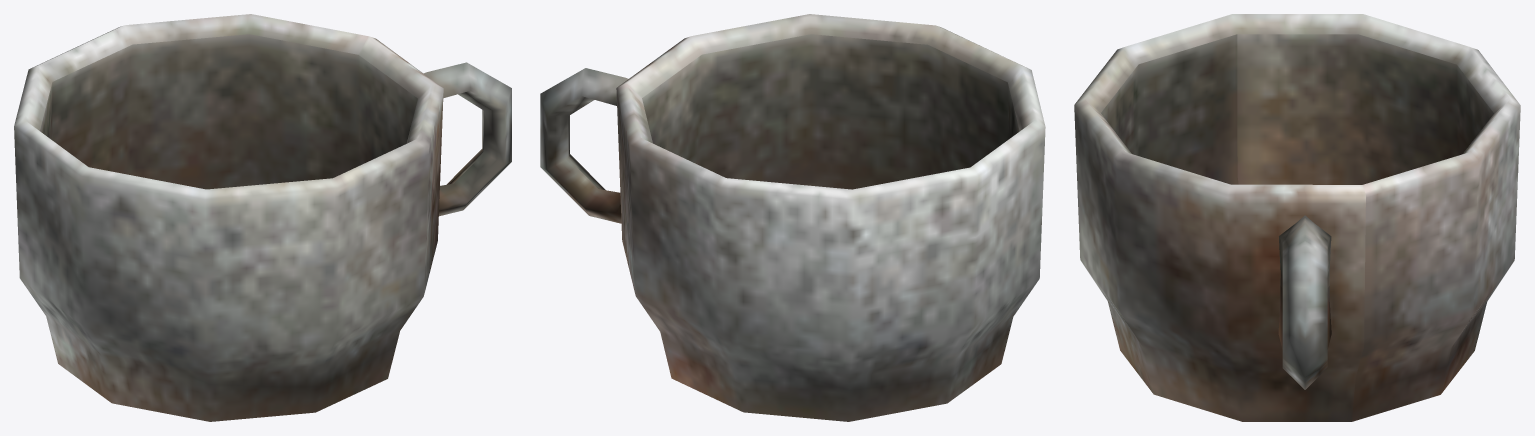
The model's file is cup02.FBX.
3 renders of one model, left to right at view 1: azimuth 30°, elevation 25°; view 2: azimuth 150°, elevation 25°; view 3: azimuth 270°, elevation 25°, orthographic.
Visible parts, largest first — view 1: SM_Cup02; view 2: SM_Cup02; view 3: SM_Cup02.
Boxes of the visible parts, left/top/right/bottom form: SM_Cup02: left=14, top=14, right=511, bottom=421; SM_Cup02: left=540, top=14, right=1045, bottom=421; SM_Cup02: left=1074, top=14, right=1520, bottom=421.
Bounding box in the file's own units: 9.72 × 4.9 × 7.9.
Materials: 1 (1 with a texture image).
